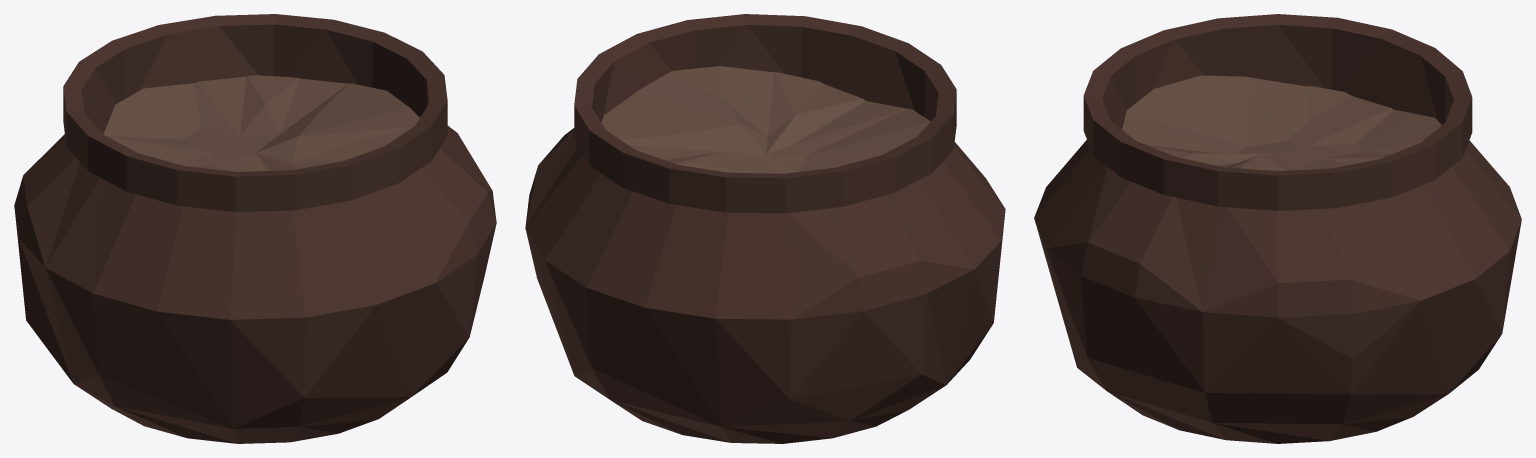
File: pOT.fbx
3 renders of one model, left to right at view 1: azimuth 30°, elevation 25°; view 2: azimuth 150°, elevation 25°; view 3: azimuth 270°, elevation 25°, orthographic.
Parts seen in each view (by area): view 1: pCylinder4; view 2: pCylinder4; view 3: pCylinder4.
Part boxes in pixels (x1,y1,x2,y2): pCylinder4: [14, 14, 496, 443]; pCylinder4: [525, 14, 1005, 443]; pCylinder4: [1034, 14, 1521, 443].
Bounding box in the file's own units: 39.5 × 25.36 × 39.5.
